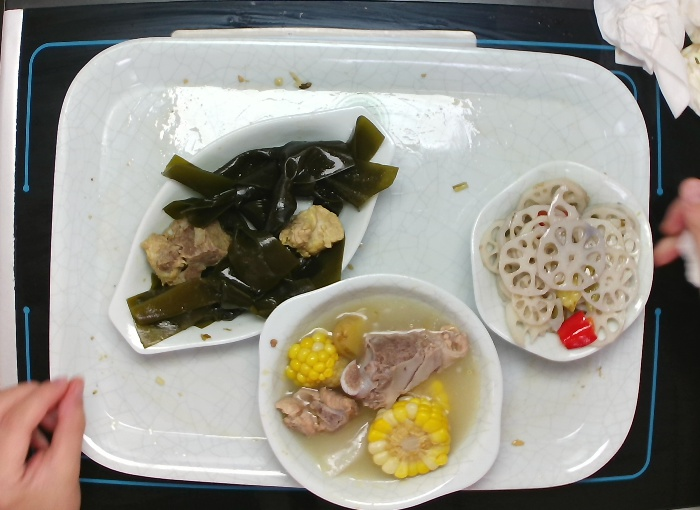JYsf-Shuang_Er_Wan: (253, 270, 512, 510)
JYsf-Yu_Pan: (104, 100, 394, 357)
WCQzf-Hua_Duo_Wan: (468, 152, 656, 369)
